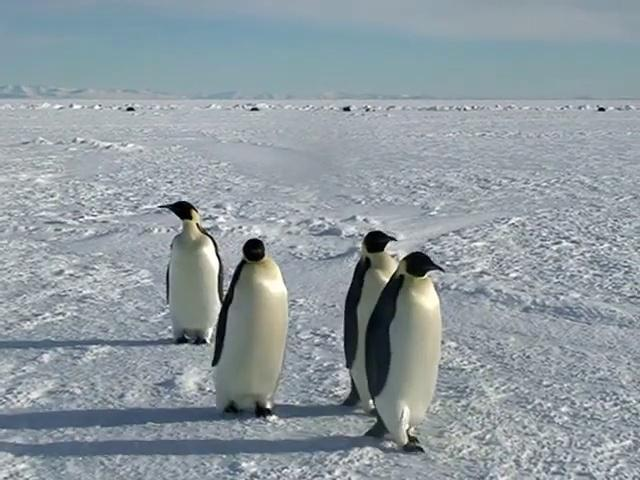animal: (367, 252, 444, 453)
